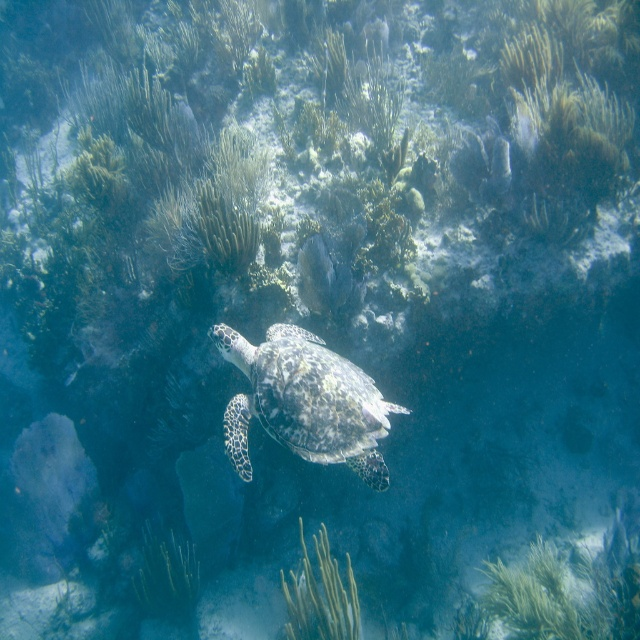Sea turtle: (207, 321, 408, 494)
